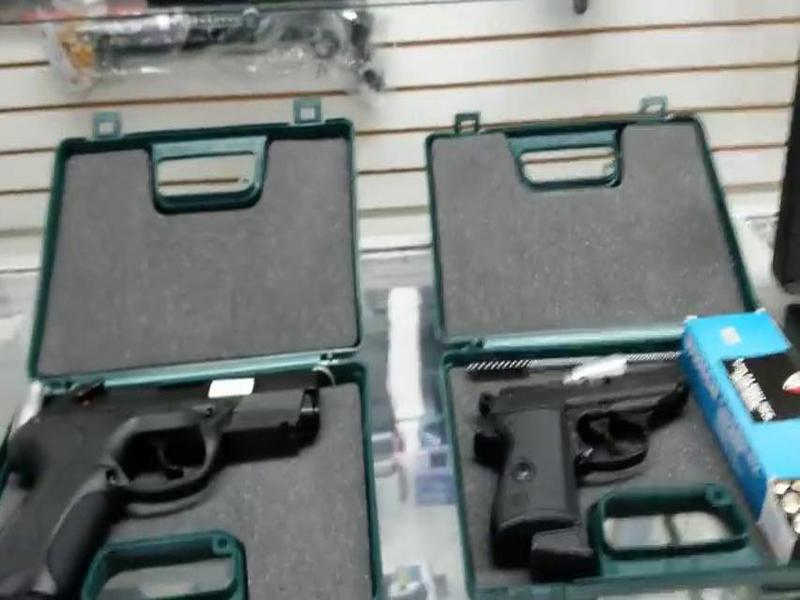Pistola: (8, 354, 359, 595), (478, 338, 729, 564)
